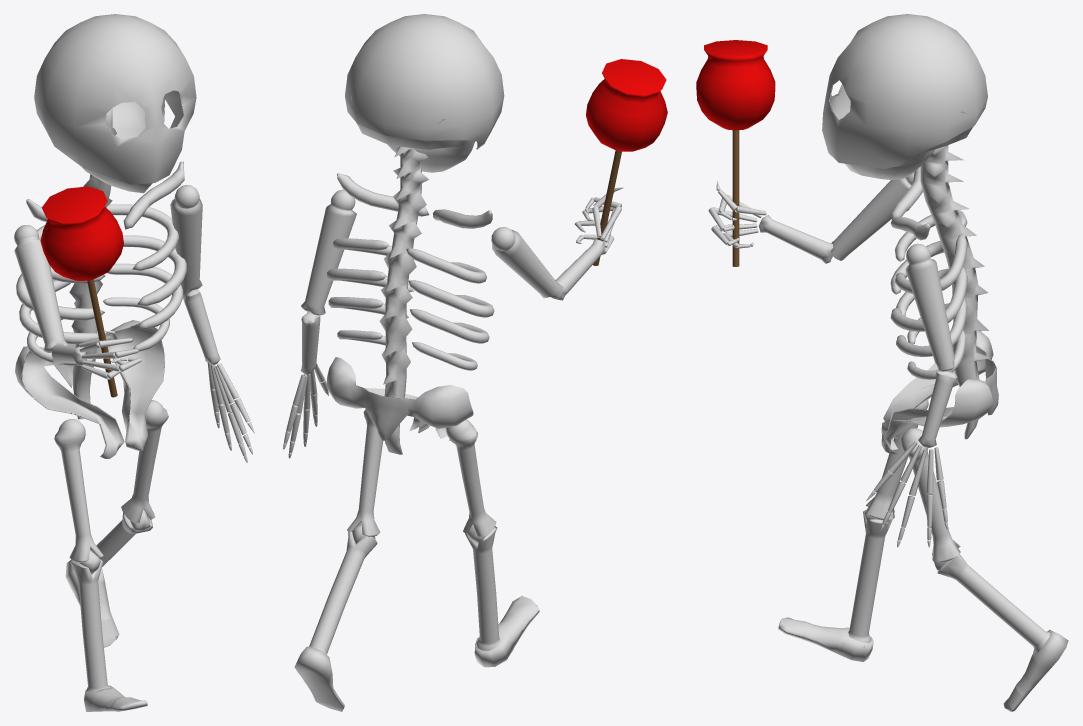
Rendered from Gluttony.fbx.
3 renders of one model, left to right at view 1: azimuth 30°, elevation 25°; view 2: azimuth 150°, elevation 25°; view 3: azimuth 270°, elevation 25°, orthographic.
Parts seen in each view (by area): view 1: head_upper, pelvis, candy, L_arm_upper, L_leg_upper, L_leg_lower, R_arm_upper, R_leg_upper, bone_2, bone_3, back, head_lower (+9 smaller); view 2: head_upper, back, candy, pelvis, R_arm_upper, R_leg_lower, L_leg_lower, L_leg_upper, L_arm_upper, bone_2, head_lower, R_leg_upper (+9 smaller); view 3: head_upper, candy, back, pelvis, R_arm_upper, R_leg_lower, L_leg_lower, L_arm_upper, R_leg_upper, L_foot, R_foot, bone_2 (+9 smaller).
Boxes of the visible parts, x1=… form: head_upper: x1=34, y1=14, x2=196, y2=184; pelvis: x1=15, y1=320, x2=164, y2=458; candy: x1=40, y1=186, x2=123, y2=280; L_arm_upper: x1=14, y1=225, x2=69, y2=352; L_leg_upper: x1=54, y1=419, x2=103, y2=562; L_leg_lower: x1=70, y1=559, x2=110, y2=691; R_arm_upper: x1=170, y1=185, x2=202, y2=294; R_leg_upper: x1=121, y1=400, x2=168, y2=522; bone_2: x1=16, y1=235, x2=186, y2=320; bone_3: x1=19, y1=263, x2=183, y2=344; back: x1=69, y1=108, x2=116, y2=419; head_lower: x1=82, y1=94, x2=165, y2=193; head_upper: x1=345, y1=14, x2=504, y2=149; back: x1=379, y1=146, x2=429, y2=454; candy: x1=586, y1=59, x2=667, y2=151; pelvis: x1=326, y1=357, x2=473, y2=440; R_arm_upper: x1=301, y1=189, x2=356, y2=315; R_leg_lower: x1=309, y1=531, x2=377, y2=654; L_leg_lower: x1=465, y1=526, x2=500, y2=650; L_leg_upper: x1=446, y1=419, x2=496, y2=536; L_arm_upper: x1=491, y1=227, x2=562, y2=298; bone_2: x1=327, y1=268, x2=494, y2=317; head_lower: x1=350, y1=95, x2=475, y2=172; R_leg_upper: x1=347, y1=409, x2=383, y2=536; head_upper: x1=822, y1=14, x2=987, y2=168; candy: x1=696, y1=40, x2=775, y2=130; back: x1=920, y1=136, x2=990, y2=439; pelvis: x1=881, y1=330, x2=998, y2=454; R_arm_upper: x1=905, y1=243, x2=954, y2=371; R_leg_lower: x1=937, y1=554, x2=1049, y2=652; L_leg_lower: x1=848, y1=510, x2=892, y2=647; L_arm_upper: x1=831, y1=172, x2=914, y2=260; R_leg_upper: x1=901, y1=428, x2=960, y2=562; L_foot: x1=778, y1=617, x2=873, y2=661; R_foot: x1=1003, y1=629, x2=1068, y2=711; bone_2: x1=890, y1=241, x2=967, y2=331.
Bounding box in the file's own units: 4.69 × 10.67 × 5.38.
